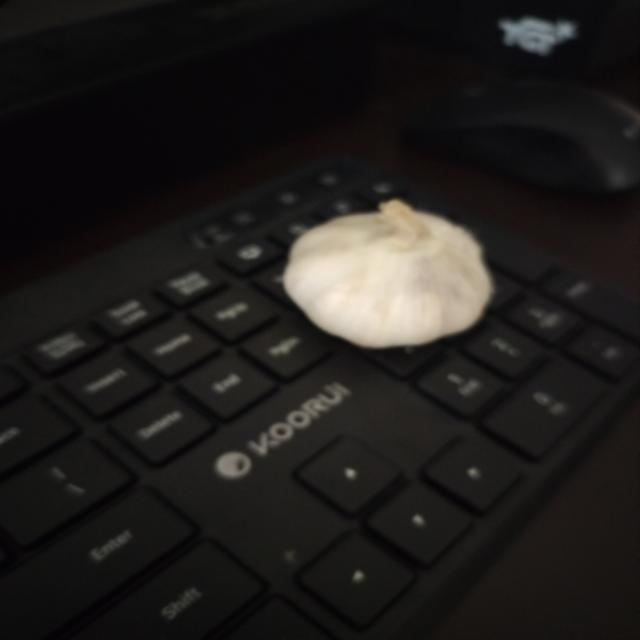garlic: (282, 197, 494, 350)
